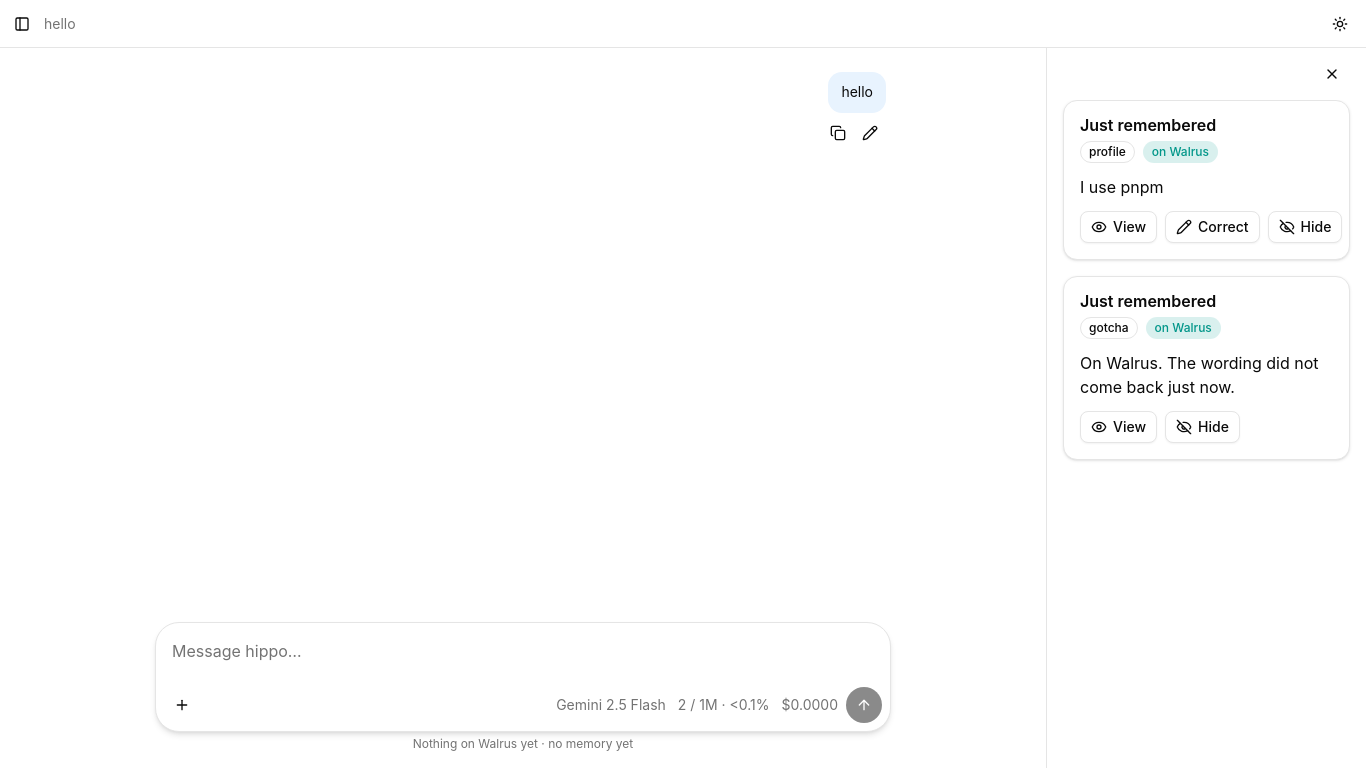
it: chat page › does not correct a fact whose wording did not come back, and hides one that did
Check: the number of buttons "Correct" is 1, box 1165,211 -> 1260,243
Click the button "Hide" below "I use pnpm": (1305, 227) 1268,211 -> 1342,243
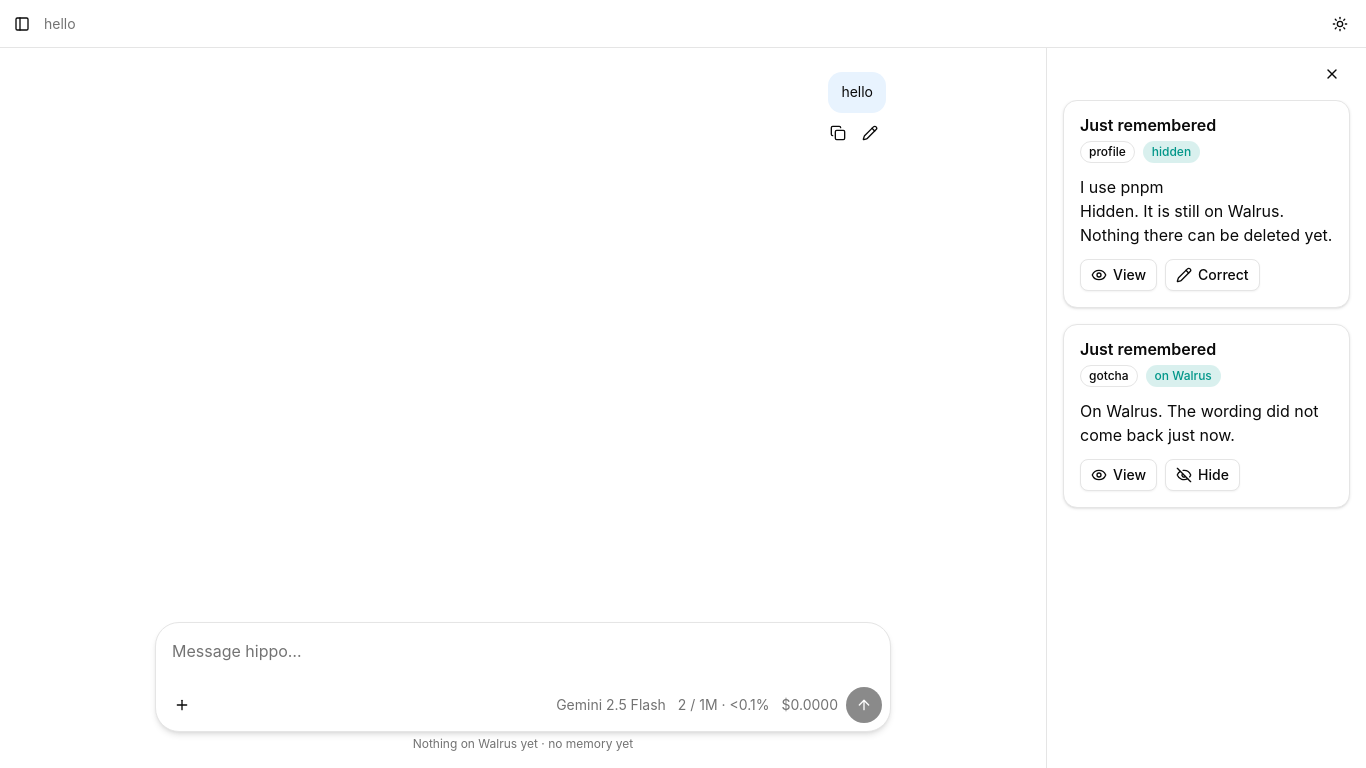
Check: the text "still on Walrus" is shown, box 1080,201 -> 1332,245
